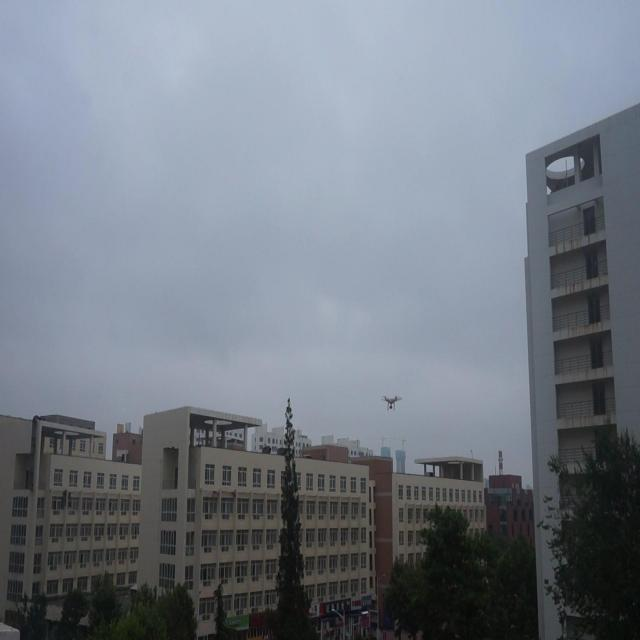UAV: (381, 396, 402, 412)
